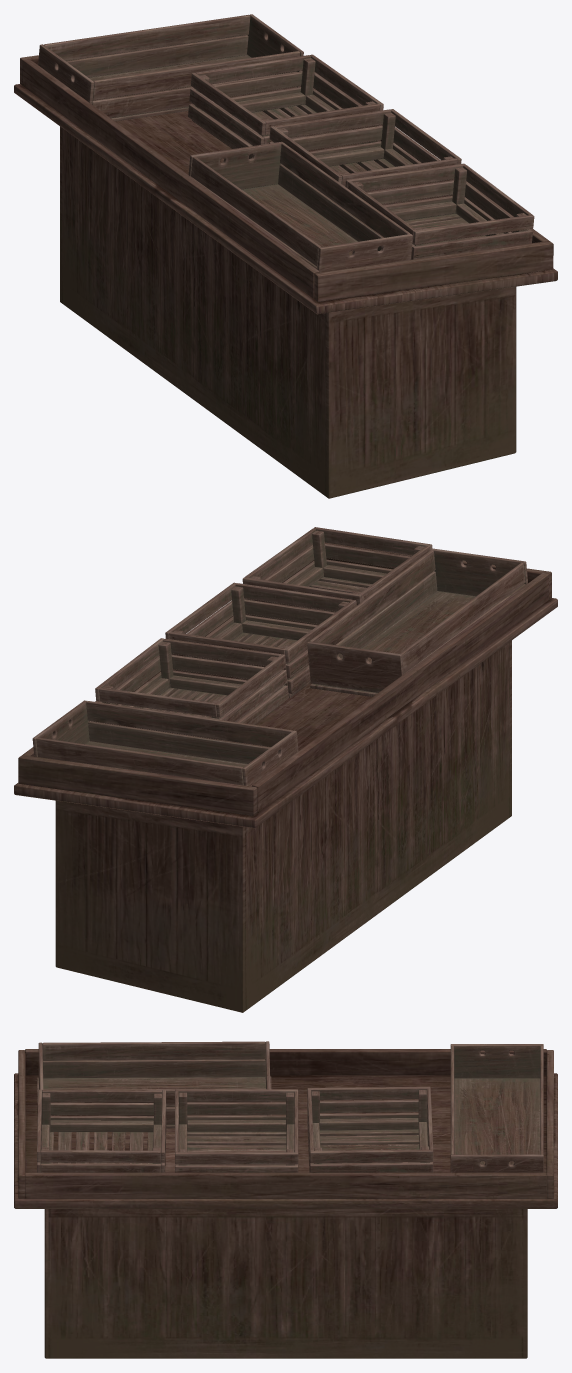
File: Table.fbx
3 views of the same model, one above another, from view 1: azimuth 30°, elevation 25°; view 2: azimuth 150°, elevation 25°; view 3: azimuth 270°, elevation 25° (orthographic). The views are drawn at different scales.
Visible parts, largest first — view 1: Table_1_lp, box_l3_lp2, box_l3_lp1, box_s6_lp1, box_s6_lp3, Table_2_lp, Table_3_lp, box_s6_lp2; view 2: Table_1_lp, box_l3_lp1, box_l3_lp2, box_s6_lp1, Table_2_lp, Table_3_lp, box_s6_lp2, box_s6_lp3; view 3: Table_1_lp, Table_3_lp, Table_2_lp, box_l3_lp1, box_l3_lp2, box_s6_lp1, box_s6_lp2, box_s6_lp3.
Boxes of the visible parts, box(x1,y1,x2,y2) form: Table_1_lp: box(20, 55, 553, 498); box_l3_lp2: box(38, 14, 303, 121); box_l3_lp1: box(188, 141, 412, 272); box_s6_lp1: box(188, 54, 383, 158); box_s6_lp3: box(345, 163, 534, 259); Table_2_lp: box(14, 84, 557, 314); Table_3_lp: box(23, 36, 548, 298); box_s6_lp2: box(269, 109, 461, 205); Table_1_lp: box(18, 542, 551, 1012); box_l3_lp1: box(307, 548, 527, 696); box_l3_lp2: box(32, 700, 298, 786); box_s6_lp1: box(95, 638, 288, 741); Table_2_lp: box(14, 598, 557, 828); Table_3_lp: box(23, 544, 548, 812); box_s6_lp2: box(165, 582, 356, 697); box_s6_lp3: box(242, 527, 432, 625); Table_1_lp: box(18, 1050, 553, 1358); Table_3_lp: box(25, 1049, 546, 1198); Table_2_lp: box(14, 1073, 557, 1208); box_l3_lp1: box(37, 1041, 271, 1128); box_l3_lp2: box(450, 1044, 543, 1172); box_s6_lp1: box(307, 1086, 433, 1172); box_s6_lp2: box(175, 1089, 298, 1172); box_s6_lp3: box(37, 1089, 166, 1172).
Size of the model in its own units: 6.21 by 6.26 by 13.45.
